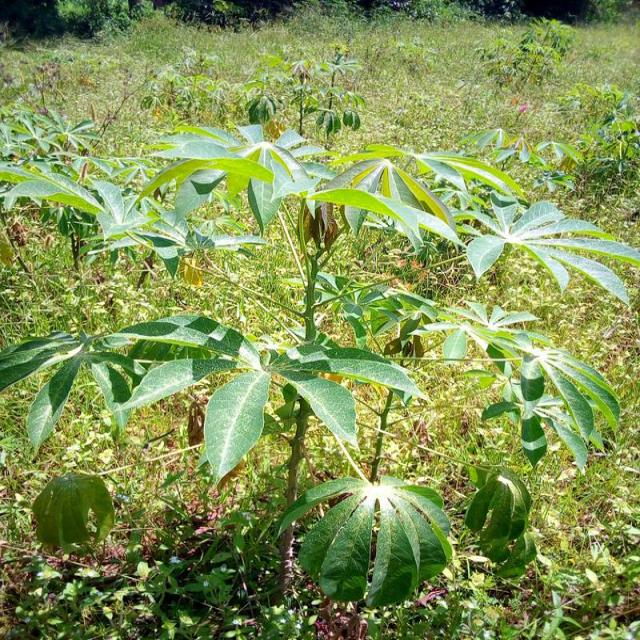cassava leaf: (0, 109, 638, 609), (278, 473, 452, 608), (202, 368, 270, 487), (31, 472, 114, 554)
